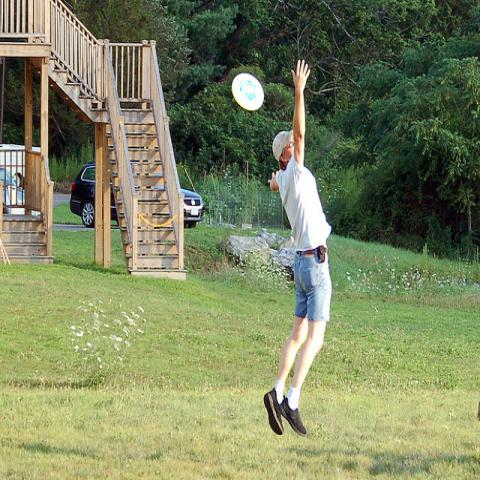car: (0, 144, 41, 190), (71, 162, 97, 228), (180, 190, 204, 229)
